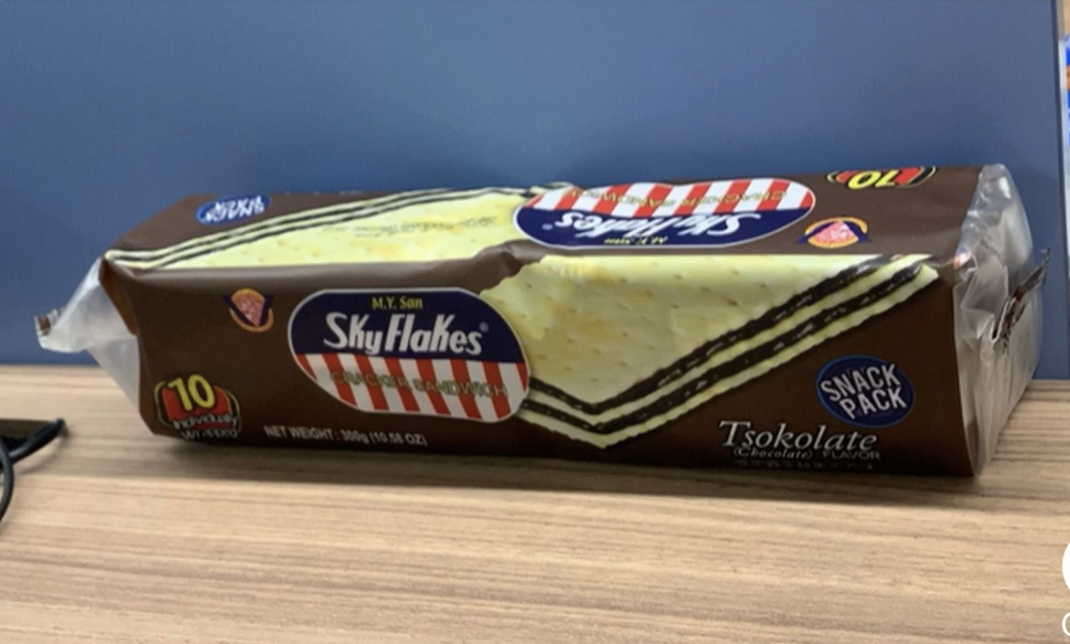crackers_150g: (158, 198, 961, 457)
